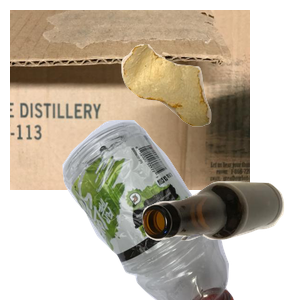cardboard: (10, 10, 250, 190)
glass: (140, 179, 300, 300)
plastic: (25, 120, 252, 300)
trash: (119, 42, 300, 161)
